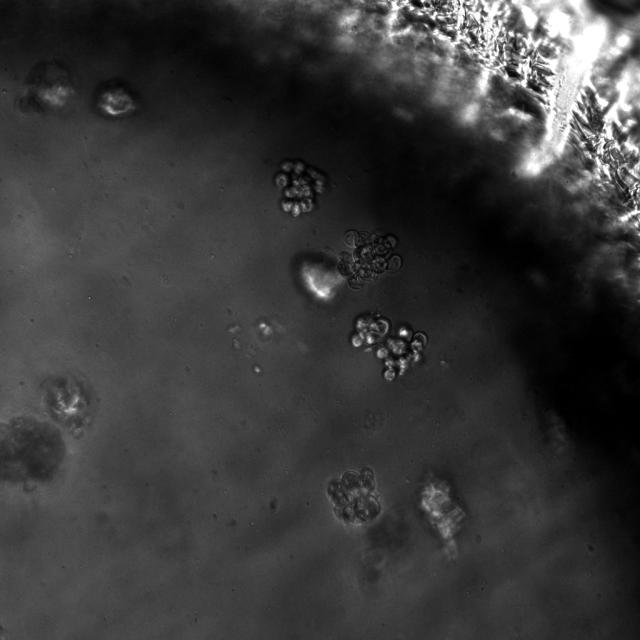organoid: (349, 312, 428, 381), (0, 417, 65, 480), (336, 229, 401, 290), (418, 477, 464, 558), (40, 372, 97, 436), (16, 59, 76, 113), (326, 467, 381, 523), (274, 160, 326, 217), (92, 78, 140, 118)
